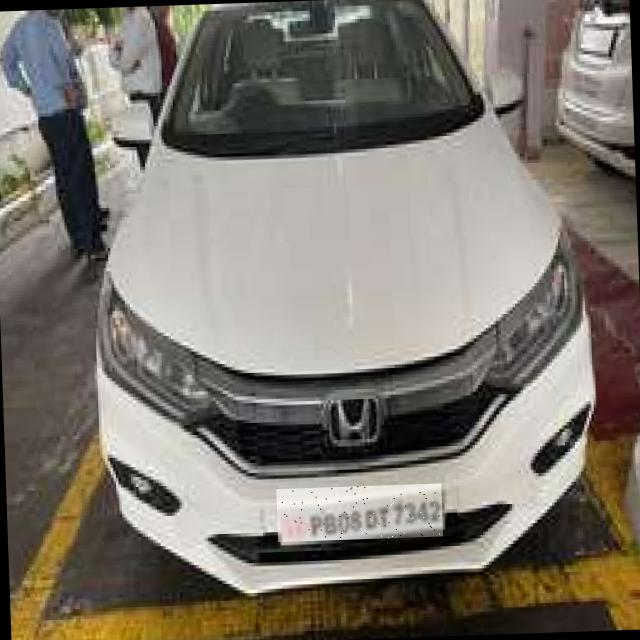Plate: (277, 484, 444, 543)
